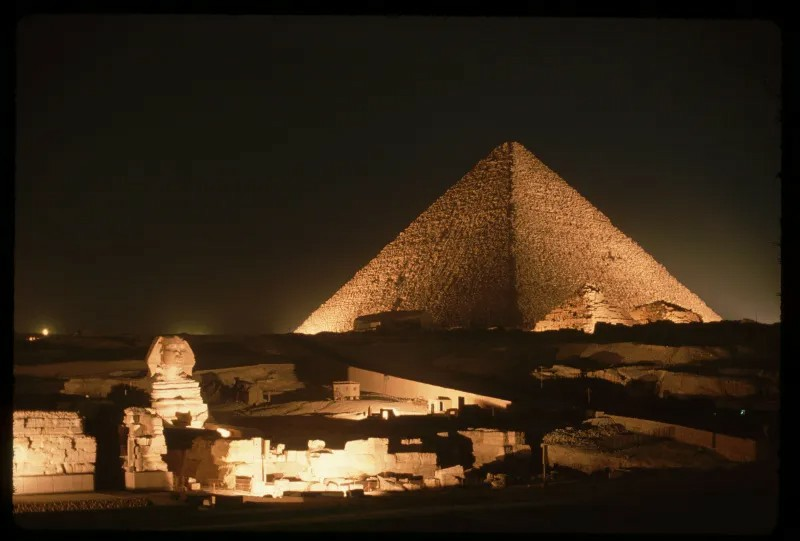Pyramid: (292, 140, 722, 334)
